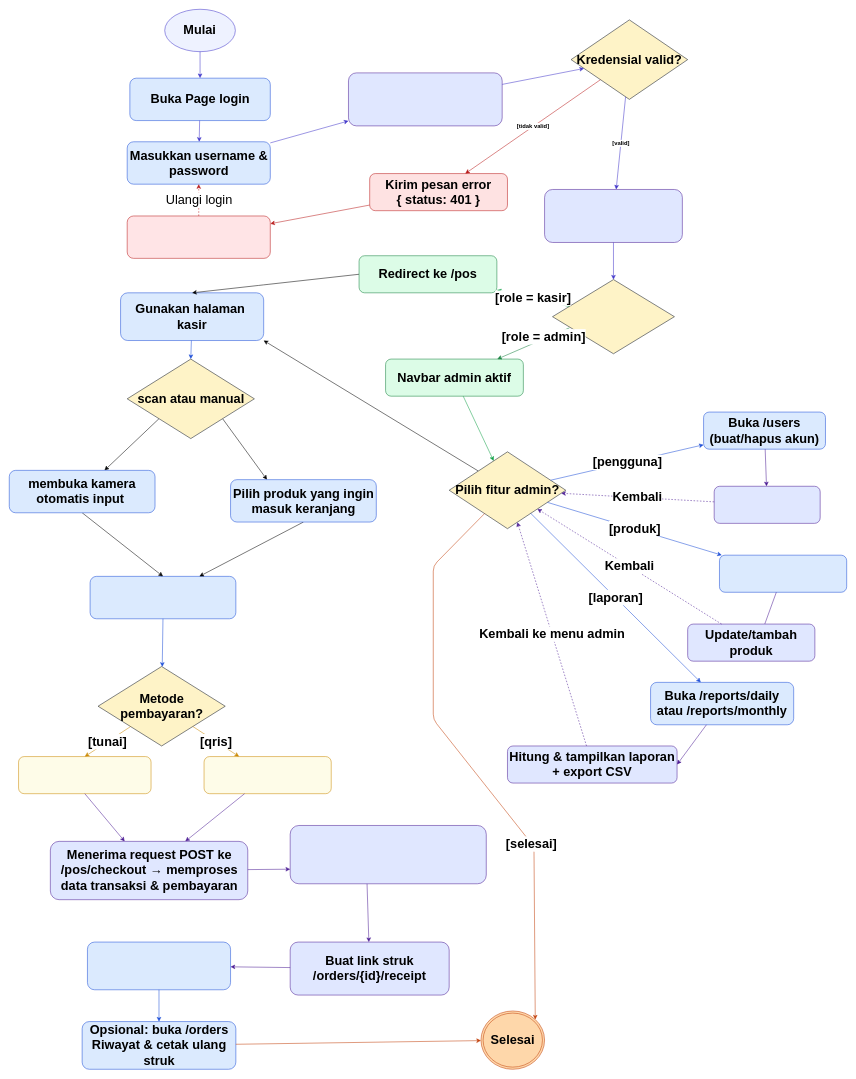
The diagram is 856 pixels wide and 1079 high, and some of its shapes have lost their labels. Here are the shapes that lost their labels. From the top down, the box of each, then its label:
(348, 72, 502, 126): Validasi kredensial POST /login
(544, 189, 682, 242): Set session & baca role
(127, 215, 270, 258): Tampilkan error & minta ulangi login
(552, 279, 674, 354): Role pengguna?
(714, 486, 820, 523): Kelola akun
(719, 555, 847, 592): Buka /products (kelola katalog)
(90, 576, 236, 619): Kelola keranjang (tambah/hapus item)
(18, 756, 151, 794): Input nominal tunai Hitung kembalian
(204, 756, 331, 794): Pilih QRIS (tanpa input cash)
(290, 825, 486, 884): Simpan order & kurangi stok (schema.orders & order_items)
(87, 942, 231, 990): Terima & (opsional) print struk /orders/{id}/receipt
